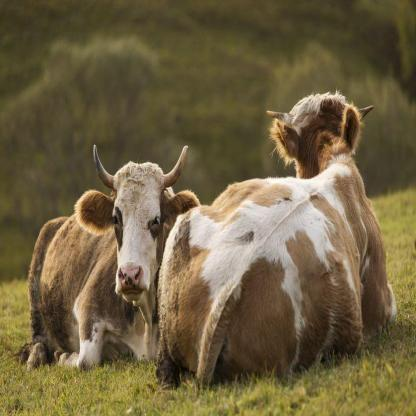cow: (160, 94, 395, 390), (17, 163, 200, 370)
